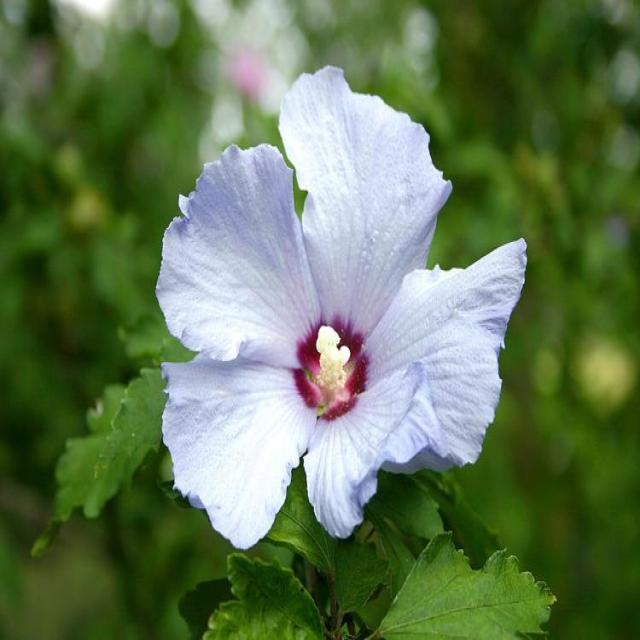hibiscus: (116, 53, 515, 511)
